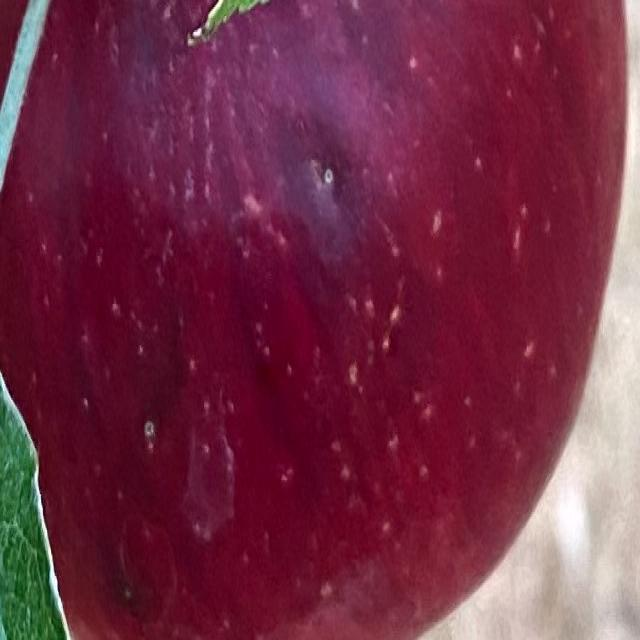Apples: (0, 0, 629, 638)
